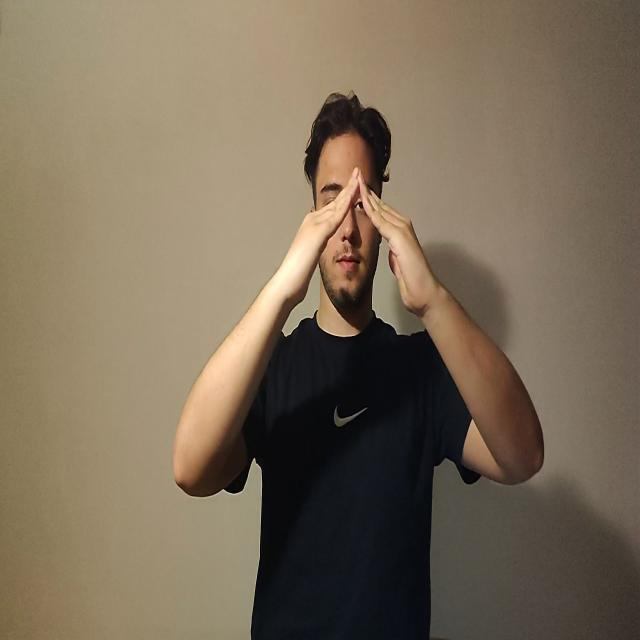house: (281, 171, 440, 322)
